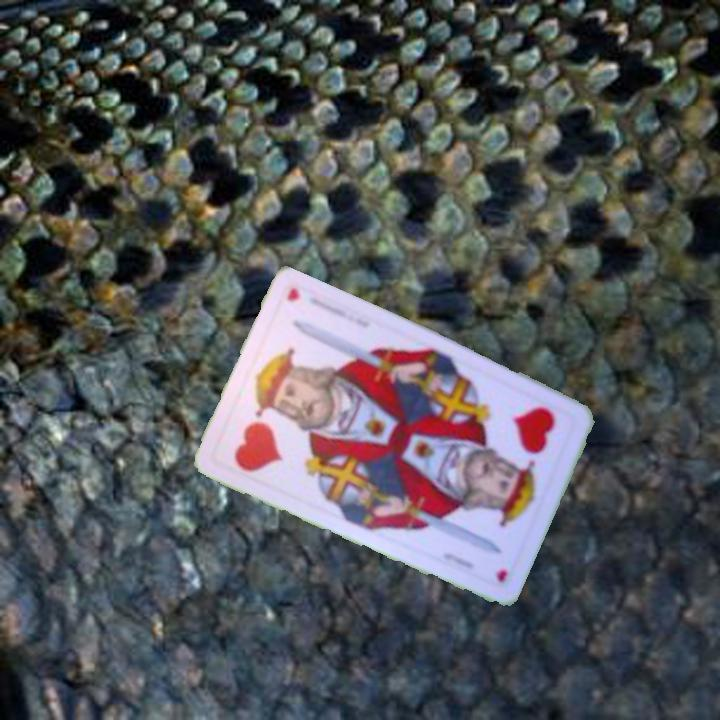h_k.png: (209, 370, 326, 495), (463, 380, 580, 504)
